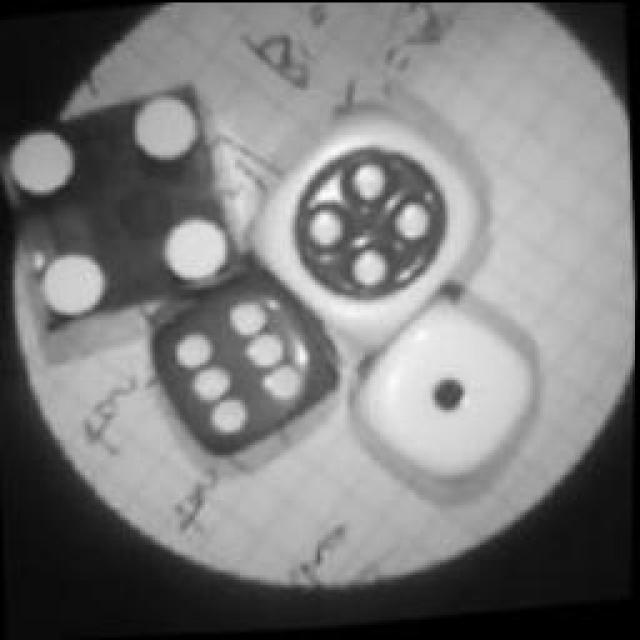dice_1: (339, 290, 539, 490)
dice_4: (0, 75, 250, 330), (242, 102, 496, 348)
dice_6: (145, 264, 345, 464)
